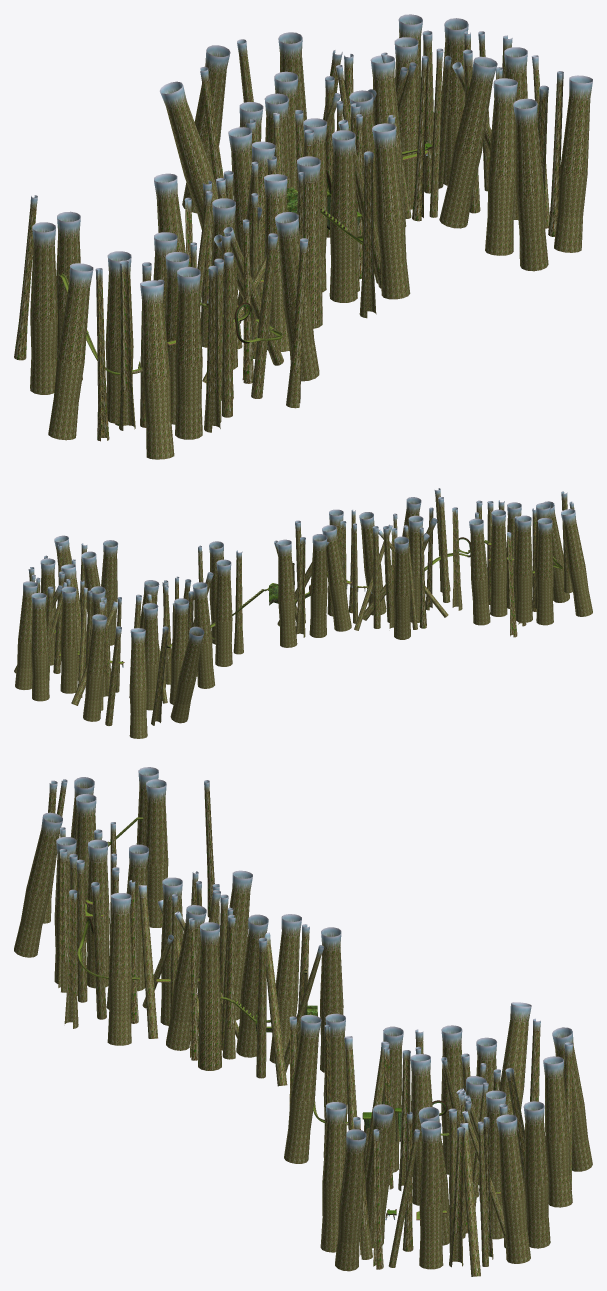
File: WhiteJungle_Visual.fbx
3 views of the same model, one above another, from view 1: azimuth 30°, elevation 25°; view 2: azimuth 150°, elevation 25°; view 3: azimuth 270°, elevation 25° (orthographic). The views are drawn at different scales.
Visible parts, largest first — view 1: object_00A8EFA8, object_00A8DFB0, object_00A8FDA8, object_00A8DE60, object_00A8FDE0, object_00A8FC58, object_00A8FE18, object_00A8E090, object_00A8DF08, object_00A8EDE8, object_00A8E528, object_00A8F6E0 (+49 smaller); view 2: object_00A8F718, object_00A8F910, object_00A8F750, object_00A8DE60, object_00A8DF08, object_00A8EDE8, object_00A8DED0, object_00A8EBF0, object_00A8E058, object_00A8E138, object_00A8FA60, object_00A8EA68 (+47 smaller); view 3: object_00A8F948, object_00A8F750, object_00A8EFA8, object_00A8E528, object_00A8FC20, object_00A8F910, object_00A8DFB0, object_00A57038, object_00A8FDE0, object_00A8FE18, object_00A8DED0, object_00A8E8E0 (+49 smaller).
Boxes of the visible parts, x1,y1,x2,y2 form: object_00A8EFA8: (372,123,410,299); object_00A8DFB0: (140,280,174,459); object_00A8FDA8: (485,78,517,255); object_00A8DE60: (48,263,93,440); object_00A8FDE0: (554,75,592,252); object_00A8FC58: (439,56,497,228); object_00A8FE18: (513,98,548,271); object_00A8E090: (175,267,202,439); object_00A8DF08: (30,222,57,394); object_00A8EDE8: (329,130,357,302); object_00A8E528: (275,212,319,381); object_00A8F6E0: (159,81,217,244); object_00A8F718: (129,628,147,738); object_00A8F910: (31,592,49,701); object_00A8F750: (83,614,107,721); object_00A8DE60: (561,509,592,616); object_00A8DF08: (536,518,553,625); object_00A8EDE8: (215,559,232,666); object_00A8DED0: (515,515,532,622); object_00A8EBF0: (277,539,297,647); object_00A8E058: (469,518,490,625); object_00A8E138: (490,509,507,616); object_00A8FA60: (60,586,77,693); object_00A8EA68: (322,525,351,631); object_00A8F948: (496,1114,530,1263); object_00A8F750: (543,1056,572,1207); object_00A8EFA8: (284,1014,321,1163); object_00A8E528: (107,893,132,1045); object_00A8FC20: (419,1120,443,1269); object_00A8F910: (523,1101,550,1248); object_00A8DFB0: (14,812,62,957); object_00A57038: (198,922,221,1070); object_00A8FDE0: (335,1129,366,1271); object_00A8FE18: (320,1102,346,1252); object_00A8DED0: (145,779,168,927); object_00A8E8E0: (166,905,206,1050).
Size of the model in its own units: 1517730 by 552237 by 1258508.
